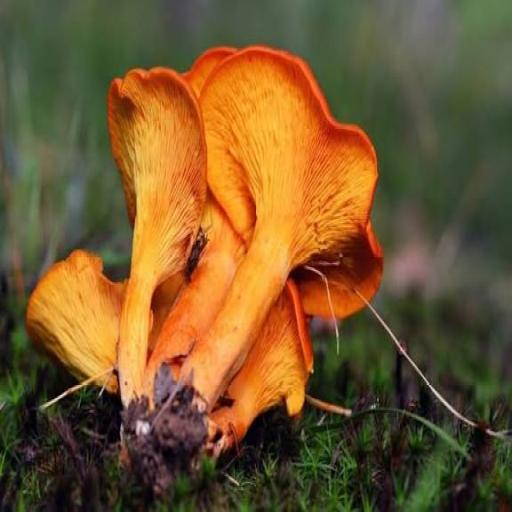Jack O Lantern Mushroom: (186, 38, 375, 447), (106, 67, 209, 422), (210, 261, 315, 466), (24, 249, 159, 394)
